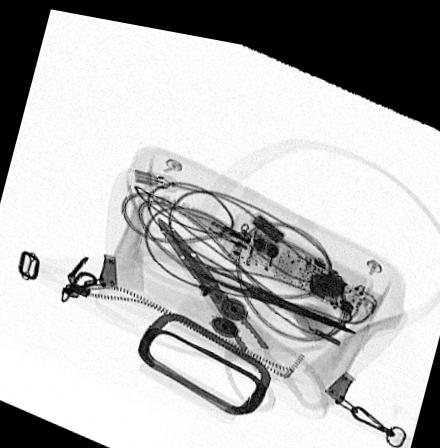Scissors: (149, 203, 330, 405), (128, 191, 361, 323)
